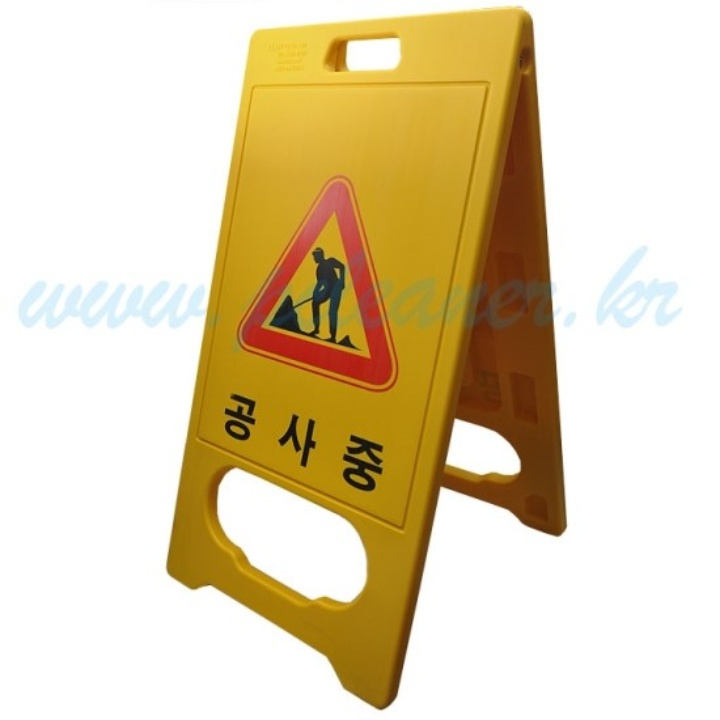const: (265, 243, 365, 349)
